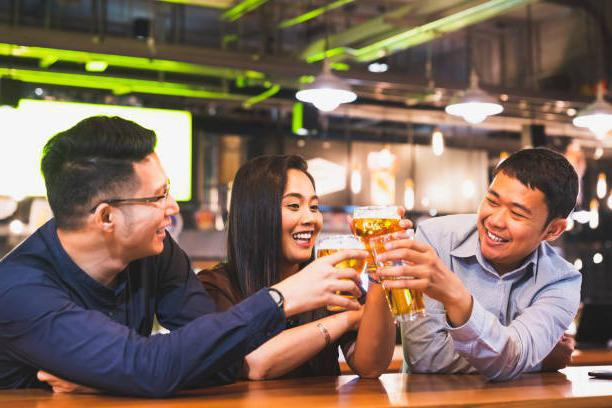Drunk: (476, 170, 536, 274), (287, 175, 322, 260)
